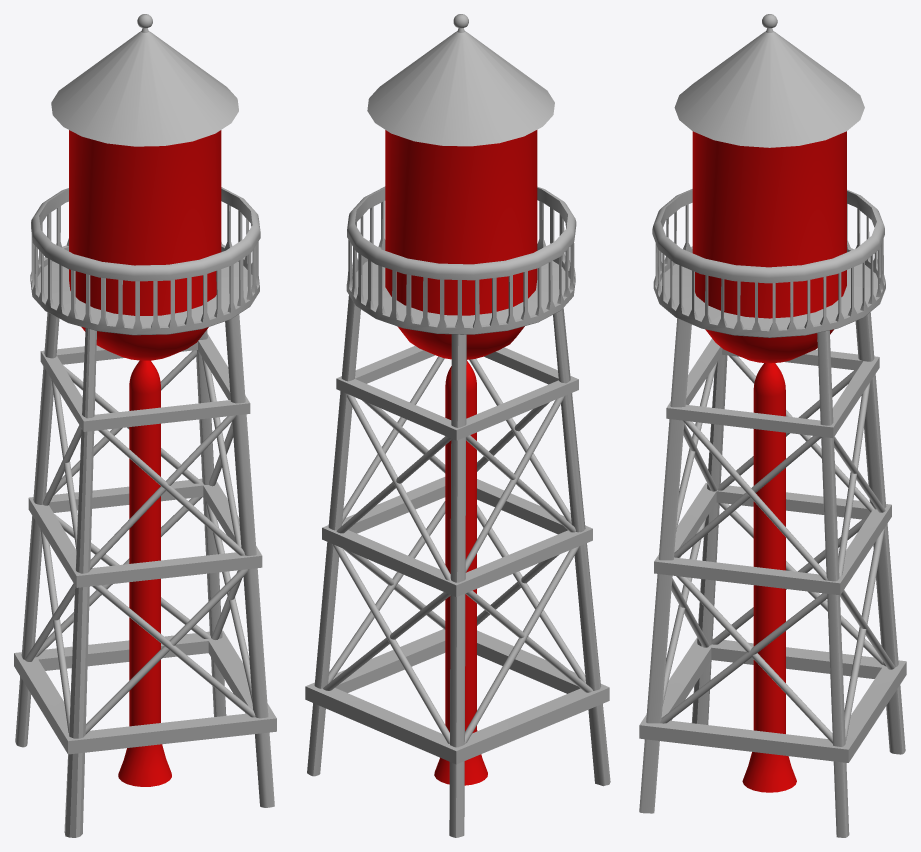
File: watertoren.fbx
3 renders of one model, left to right at view 1: azimuth 30°, elevation 25°; view 2: azimuth 150°, elevation 25°; view 3: azimuth 270°, elevation 25°, orthographic.
Visible parts, largest first — view 1: watertoren2; view 2: watertoren2; view 3: watertoren2.
Boxes of the visible parts, box(x1,y1,x2,y2) form: watertoren2: box(14, 14, 276, 837); watertoren2: box(305, 14, 610, 837); watertoren2: box(639, 14, 906, 837).
Bounding box in the file's own units: 14.63 × 46.49 × 14.56.
